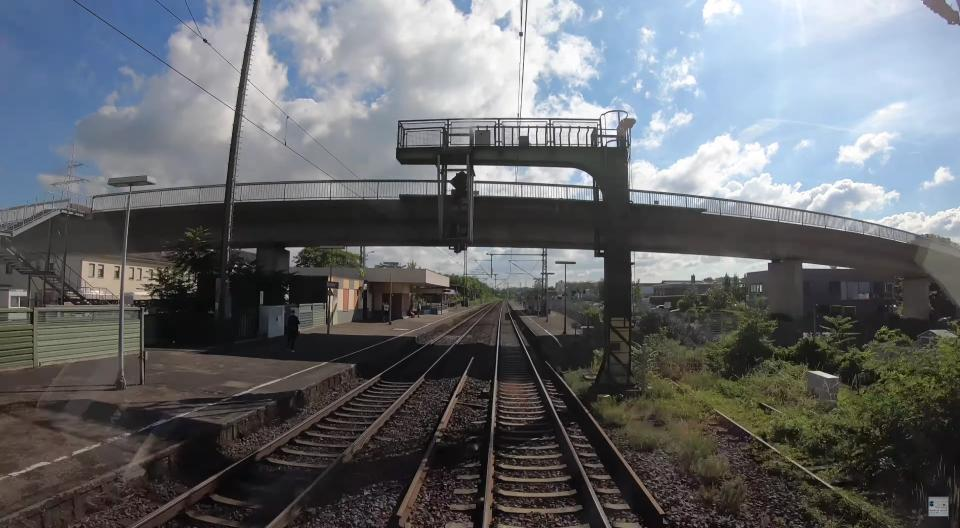Plant: (592, 376, 728, 486), (750, 441, 904, 528), (696, 478, 746, 517), (561, 350, 603, 394)
